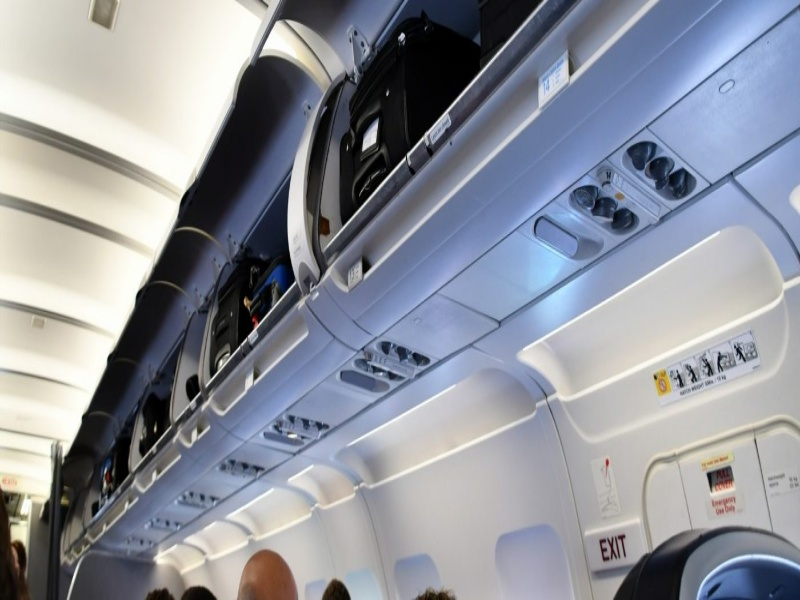open_bin: (302, 4, 547, 289), (204, 80, 321, 404), (129, 310, 192, 472), (176, 258, 227, 430), (84, 409, 137, 538)
